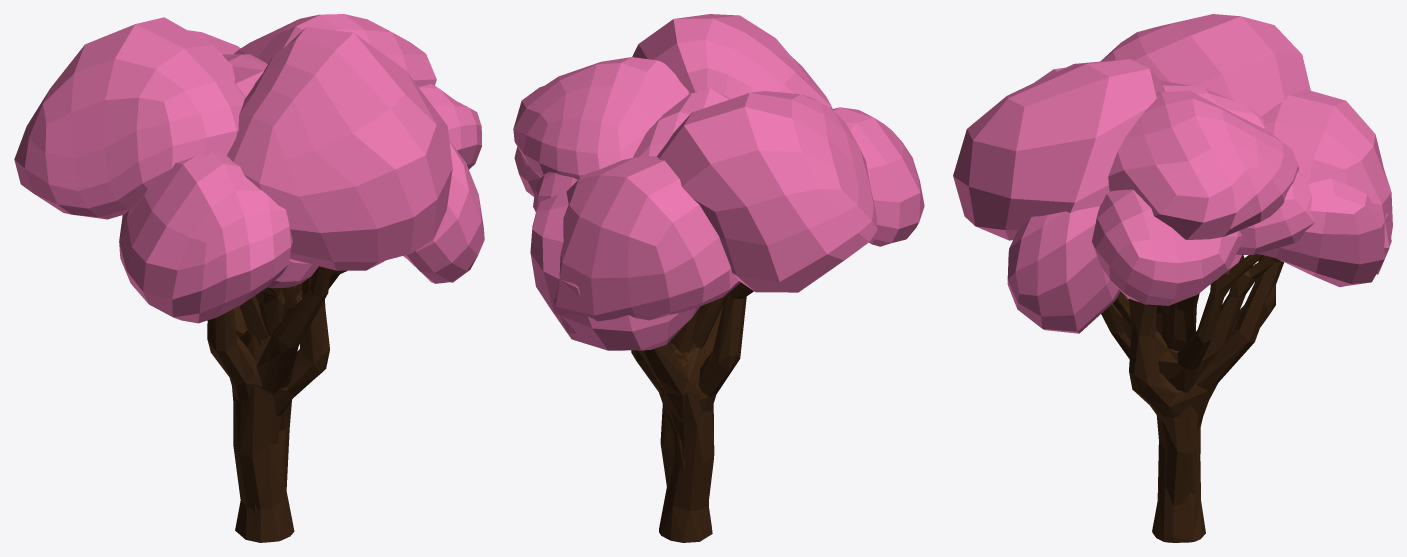
File: Trees.fbx
3 renders of one model, left to right at view 1: azimuth 30°, elevation 25°; view 2: azimuth 150°, elevation 25°; view 3: azimuth 270°, elevation 25°, orthographic. The views are drawn at different scales.
Visible parts, largest first — view 1: Tree3, Tree2, Tree1, Tree4, Tree5; view 2: Tree2, Tree3, Tree1, Tree4; view 3: Tree3, Tree2, Tree1, Tree4, Tree5.
Part boxes in pixels (x1,y1,x2,y2): Tree3: (222,14,452,489); Tree2: (14,17,329,416); Tree1: (119,83,481,542); Tree4: (239,141,484,345); Tree5: (252,259,318,517); Tree2: (553,91,877,482); Tree3: (513,14,832,490); Tree1: (514,107,924,542); Tree4: (533,172,725,348); Tree3: (953,59,1298,506); Tree2: (1100,14,1392,480); Tree1: (1034,67,1391,542); Tree4: (1007,170,1314,392); Tree5: (1121,255,1280,454).
Bounding box in the file's own units: 6.51 × 7.83 × 6.5.
